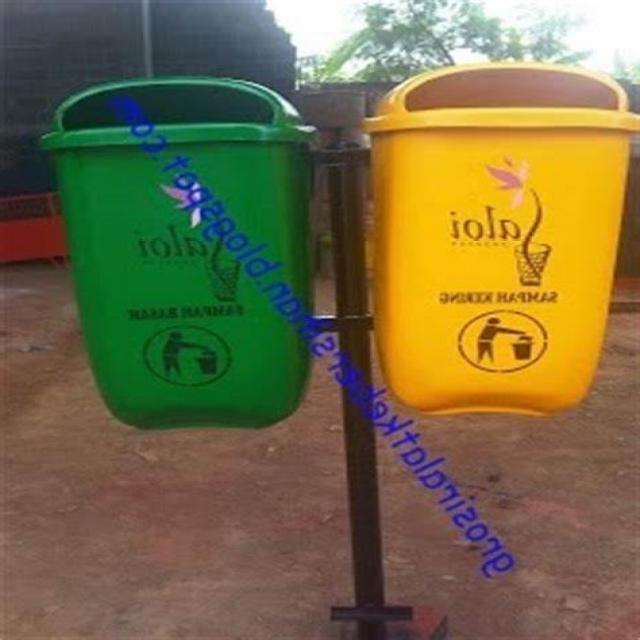garbage container: (0, 59, 337, 433), (342, 60, 640, 429)
